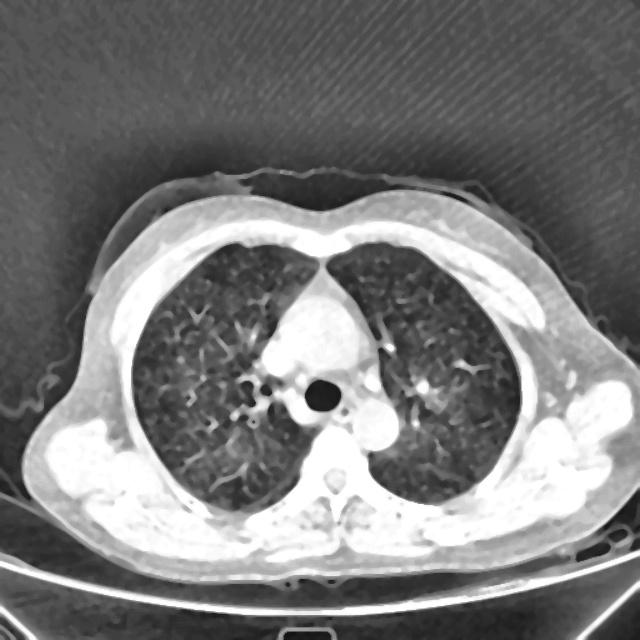covid: (20, 165, 638, 589)
